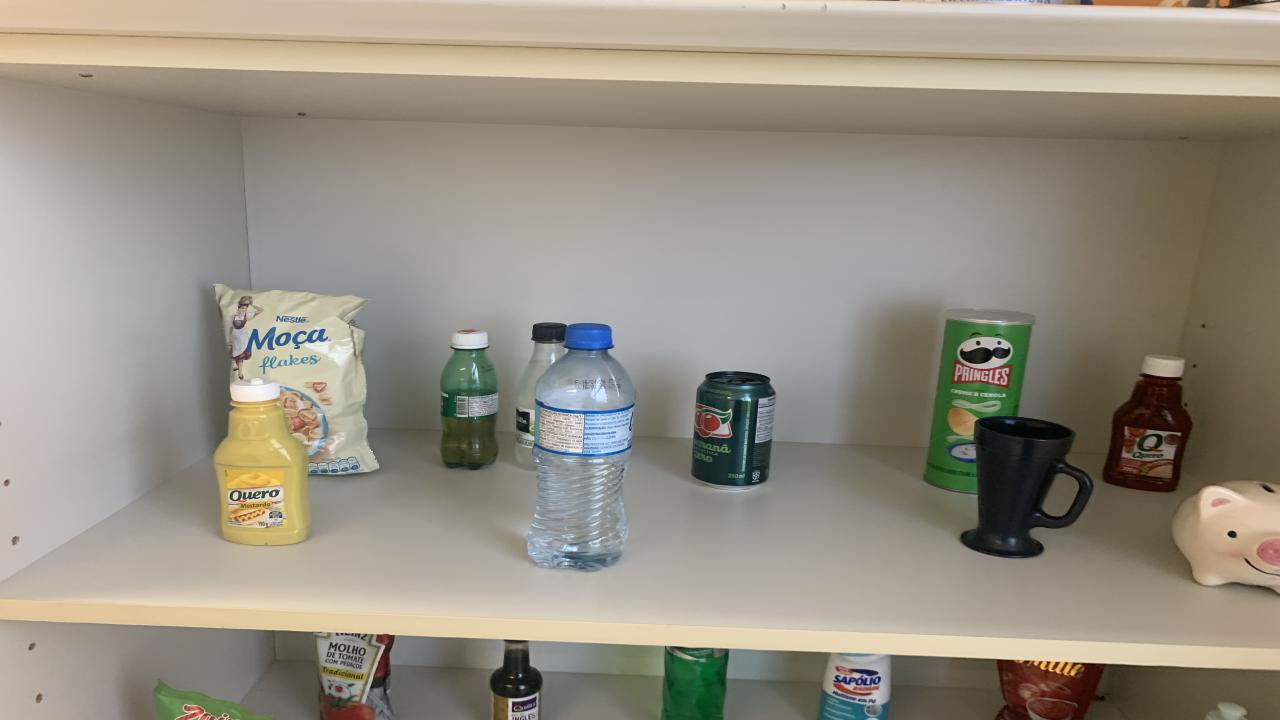Cleaner-Cleanup_Items: (818, 652, 890, 720)
Detergent-Cleanup_Items: (660, 647, 730, 720)
English_Sauce-Pantry_Items: (490, 639, 542, 720)
Flakes-Snacks: (215, 285, 378, 474)
Guarana-Drinks: (440, 330, 498, 471)
Guarana_Can-Drinks: (690, 371, 775, 491)
Ketchup-Pantry_Items: (1102, 354, 1192, 491)
Mustard-Pantry_Items: (215, 377, 310, 546)
Pig_Safe-Miscellaneous: (1172, 482, 1280, 592)
Pringles-Snacks: (925, 308, 1035, 493)
Soda-Drinks: (515, 322, 568, 471)
Tomato_Sauce-Pantry_Items: (315, 632, 395, 720), (995, 660, 1105, 720), (152, 681, 272, 720)
Water_Bottle-Drinks: (528, 324, 635, 570)
